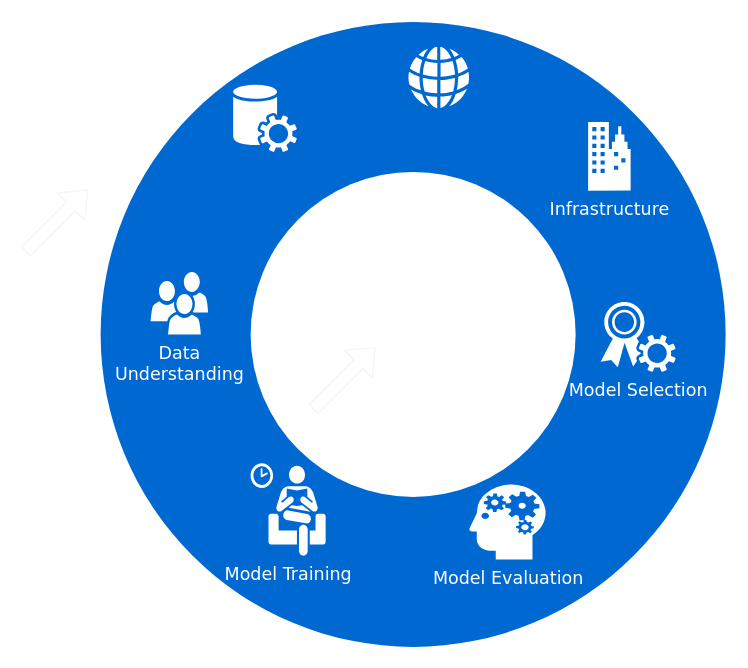
The diagram is 748 pixels wide and 668 high, and some of its shapes have lost their labels. Here are the shapes that lost their labels. From the top down, the centre of each, then its label:
(x=438, y=77): Model Deployment
(x=264, y=117): Data Preparation
(x=412, y=333): Machine learning projects
